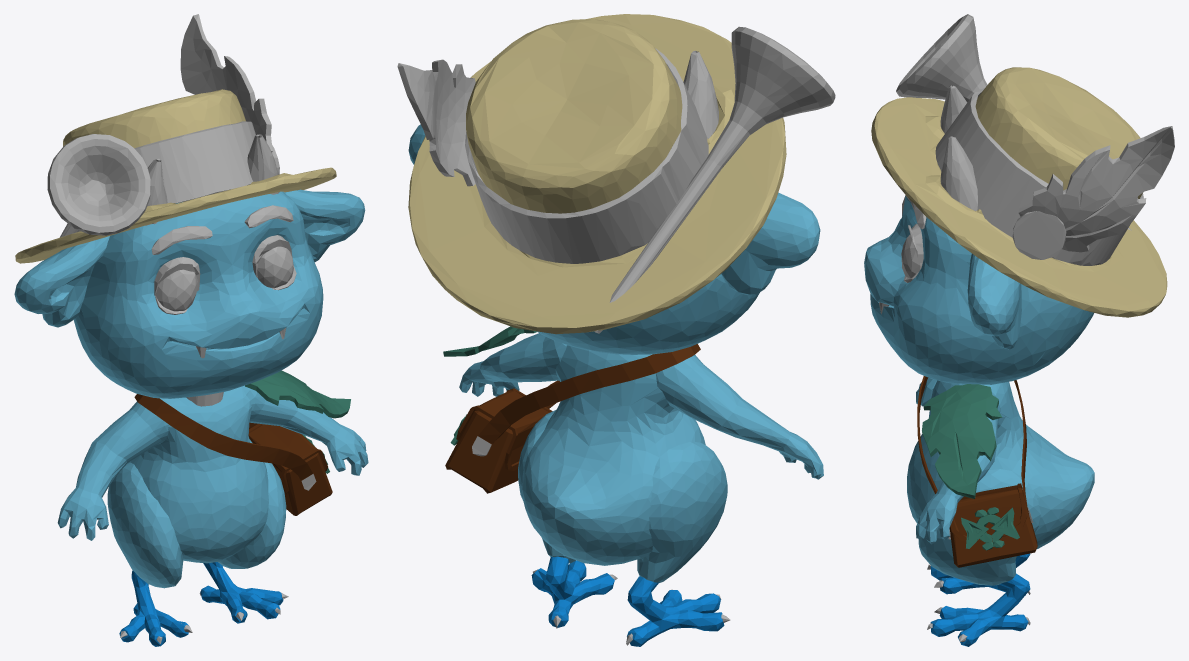
Rendered from hovanets_low.fbx.
3 views of the same model, side by side, from view 1: azimuth 30°, elevation 25°; view 2: azimuth 150°, elevation 25°; view 3: azimuth 270°, elevation 25° (orthographic). The views are drawn at different scales.
Parts seen in each view (by area): view 1: Group25158; view 2: Group25158; view 3: Group25158.
Part boxes in pixels (<box>): Group25158: <box>14,14,368,646</box>; Group25158: <box>397,14,835,646</box>; Group25158: <box>864,14,1174,646</box>.
Bounding box in the file's own units: 76.41 × 110 × 57.57.
